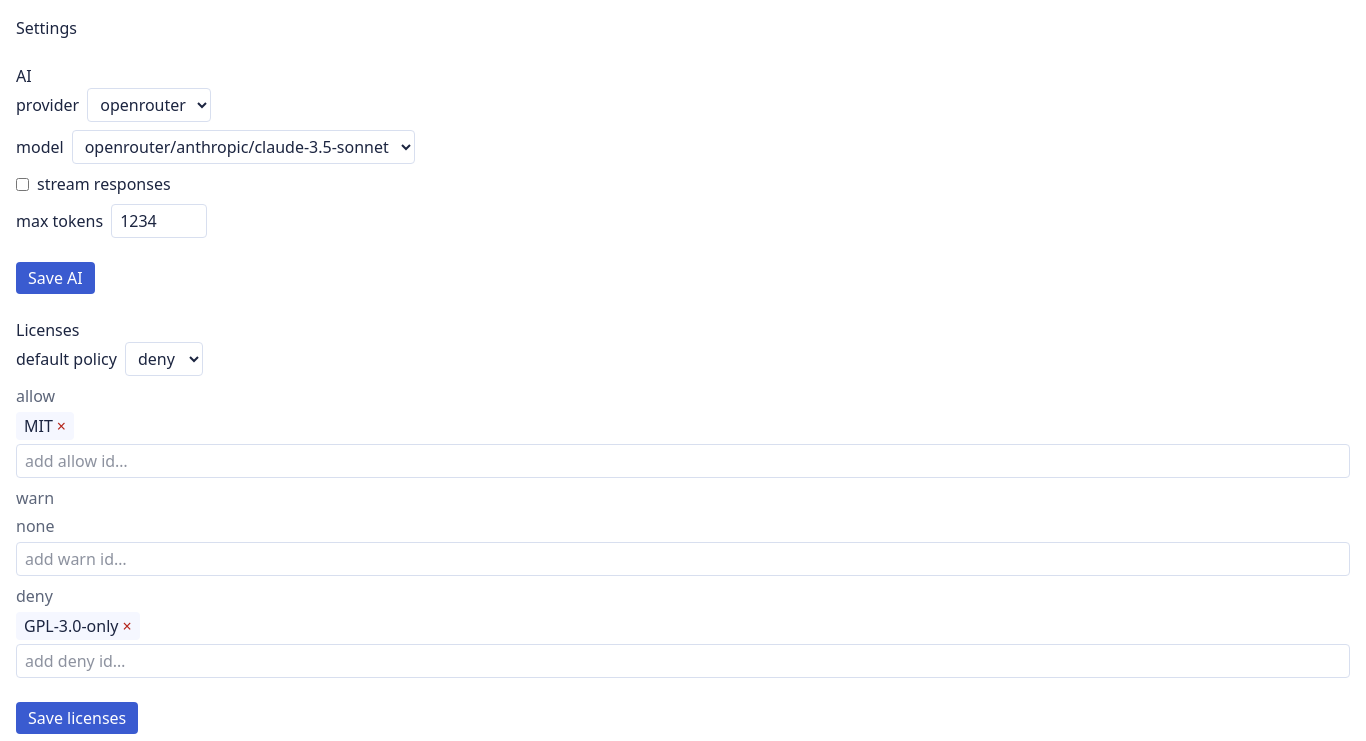
Test case: SettingsPage › saves ai
expect the element named "ai settings" is shown: met, box [16,65,415,238]
Replace the text in the number field labelled "max tokens" with "4096" at {"x": 159, "y": 221}, box [111,204,207,238]
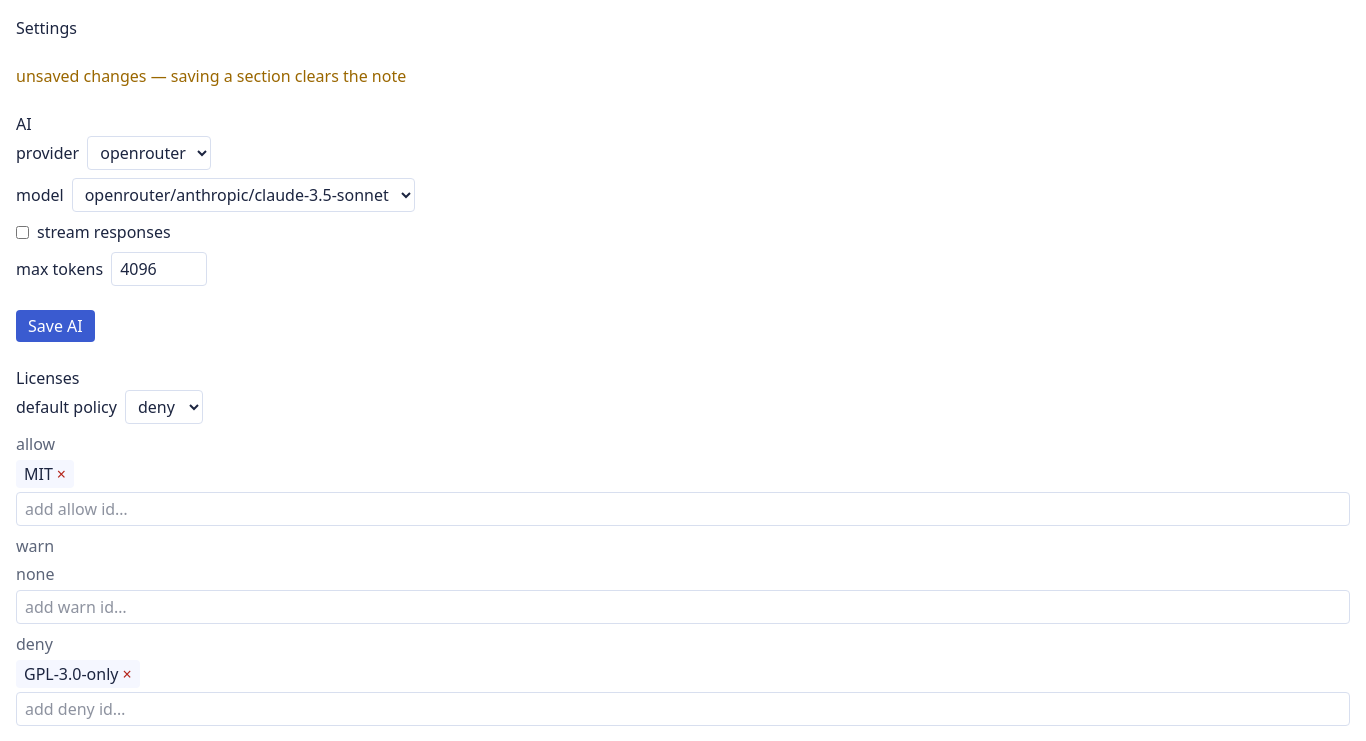
Click the button with test id "save-ai" at {"x": 55, "y": 326}, box [16,310,95,342]
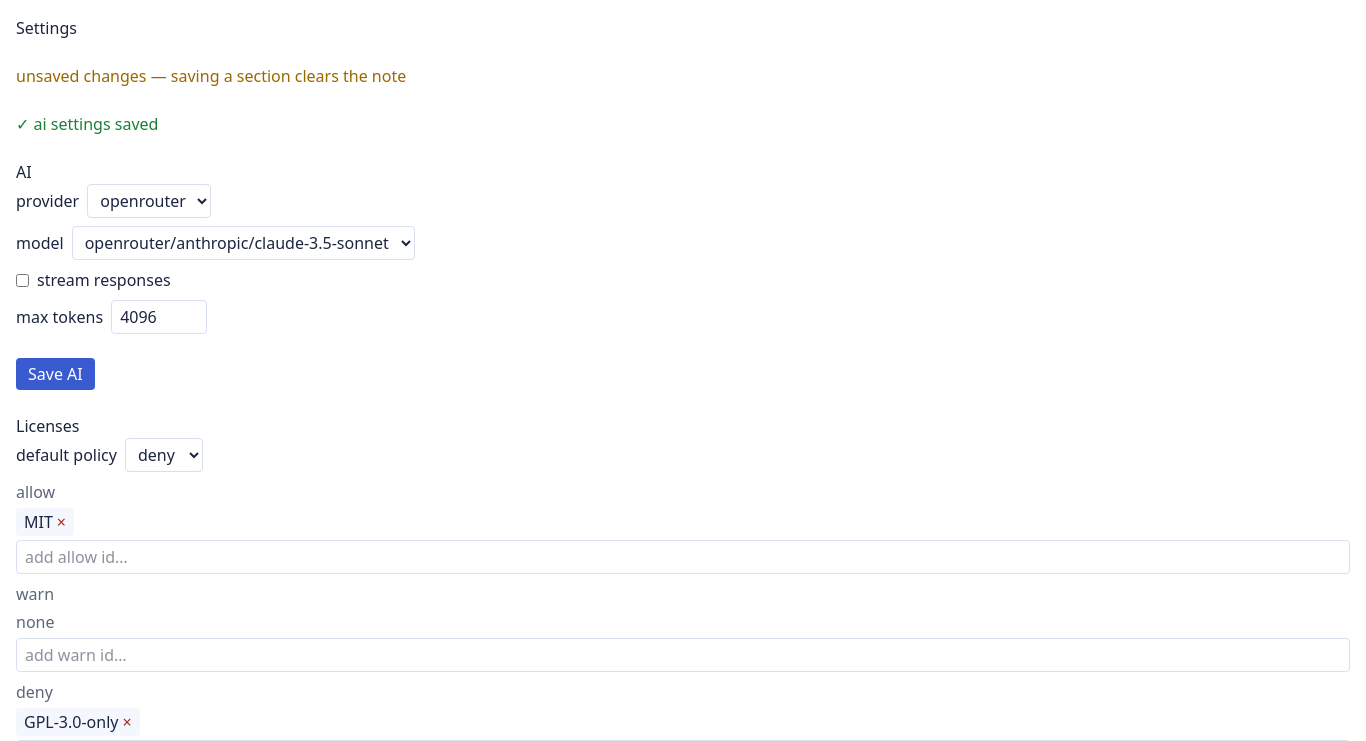
expect the message "✓ ai settings saved" is shown: met, box [16,113,158,135]
